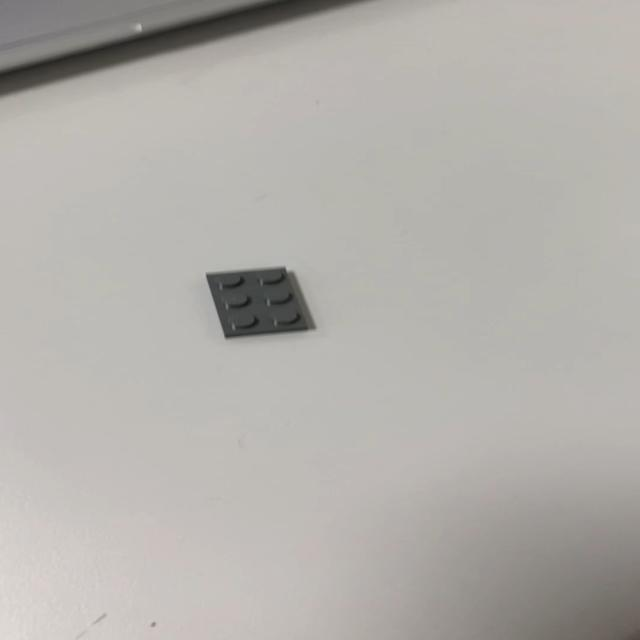C3x2x0: (203, 265, 316, 338)
